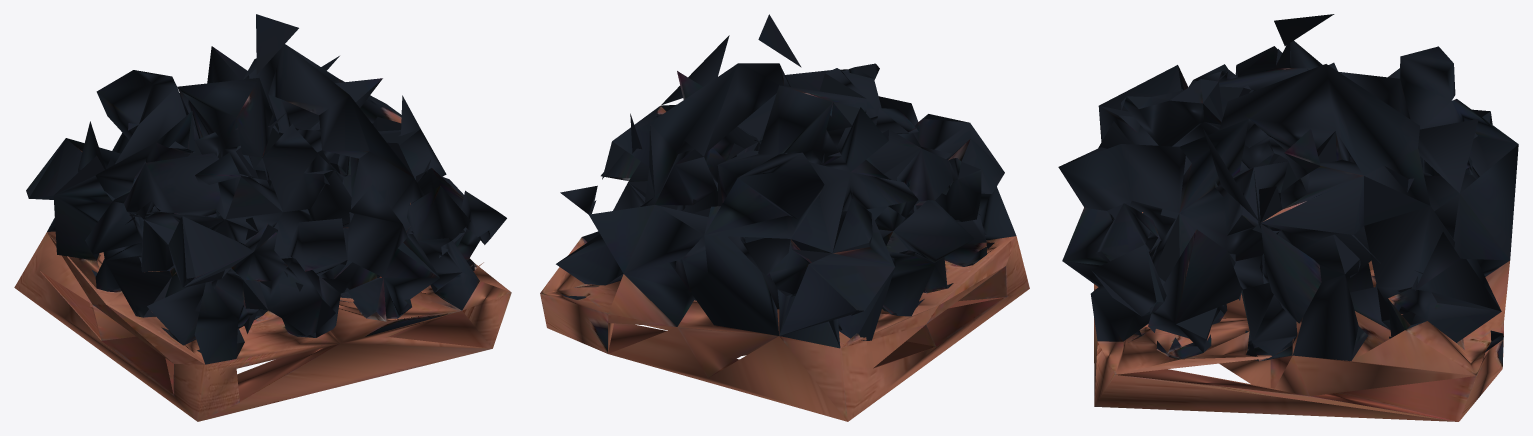
Rendered from cannonballs.glb.
3 views of the same model, side by side, from view 1: azimuth 30°, elevation 25°; view 2: azimuth 150°, elevation 25°; view 3: azimuth 270°, elevation 25° (orthographic). The views are drawn at different scales.
Parts seen in each view (by area): view 1: cannonballs; view 2: cannonballs; view 3: cannonballs.
Boxes of the visible parts, x1,y1,x2,y2 form: cannonballs: (14, 14, 511, 421); cannonballs: (540, 14, 1029, 421); cannonballs: (1058, 14, 1518, 421).
Size of the model in its own units: 1.07 by 0.8261 by 1.04.
Materials: 1 (1 with a texture image).
